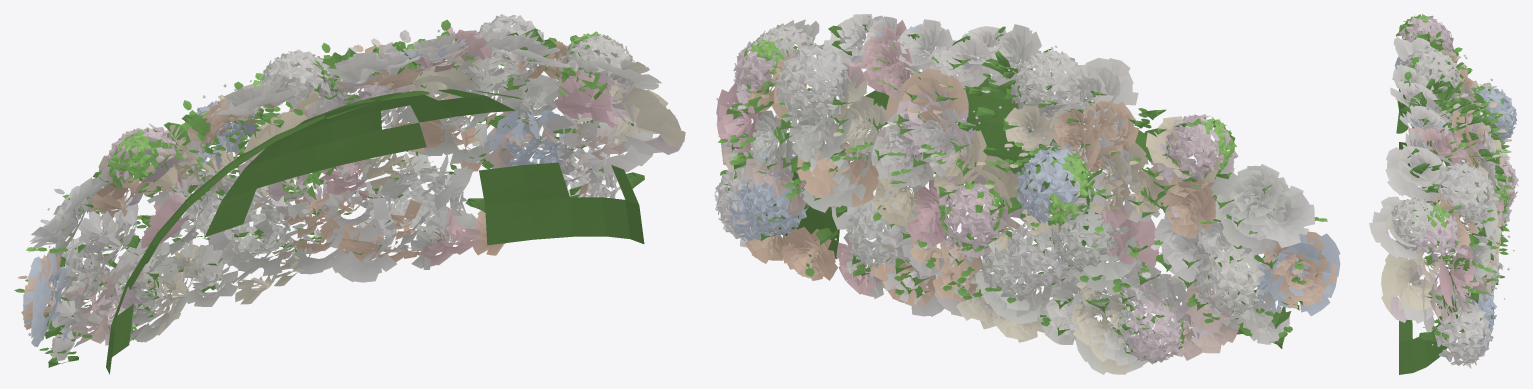
Rendered from vr27n_D_bank_bright_v4.glb.
3 renders of one model, left to right at view 1: azimuth 30°, elevation 25°; view 2: azimuth 150°, elevation 25°; view 3: azimuth 270°, elevation 25°, orthographic. The views are drawn at different scales.
Visible parts, largest first — view 1: petals; view 2: petals; view 3: petals.
Part boxes in pixels (box(x1,y1,x2,y2)): petals: box(14, 14, 685, 374); petals: box(714, 14, 1340, 374); petals: box(1369, 14, 1518, 374).
Bounding box in the file's own units: 0.0235 × 0.0101 × 0.00602.
